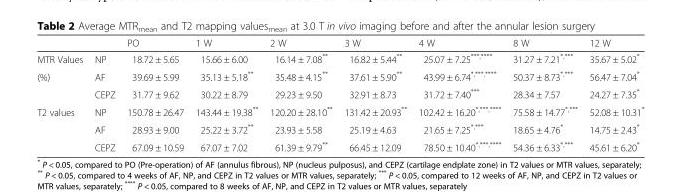table: (36, 36, 643, 152)
table column: (412, 36, 506, 152), (506, 36, 582, 152), (337, 36, 412, 152), (189, 36, 263, 152), (263, 36, 337, 152), (120, 36, 189, 152), (582, 36, 643, 152), (36, 36, 88, 152), (88, 36, 120, 152)
table column header: (36, 36, 643, 49)
table row: (36, 66, 643, 84), (36, 84, 643, 102), (36, 119, 643, 137), (36, 49, 643, 66), (36, 102, 643, 119), (36, 137, 643, 152), (36, 36, 643, 49)
table spanning cell: (36, 102, 88, 152), (36, 66, 88, 102)
